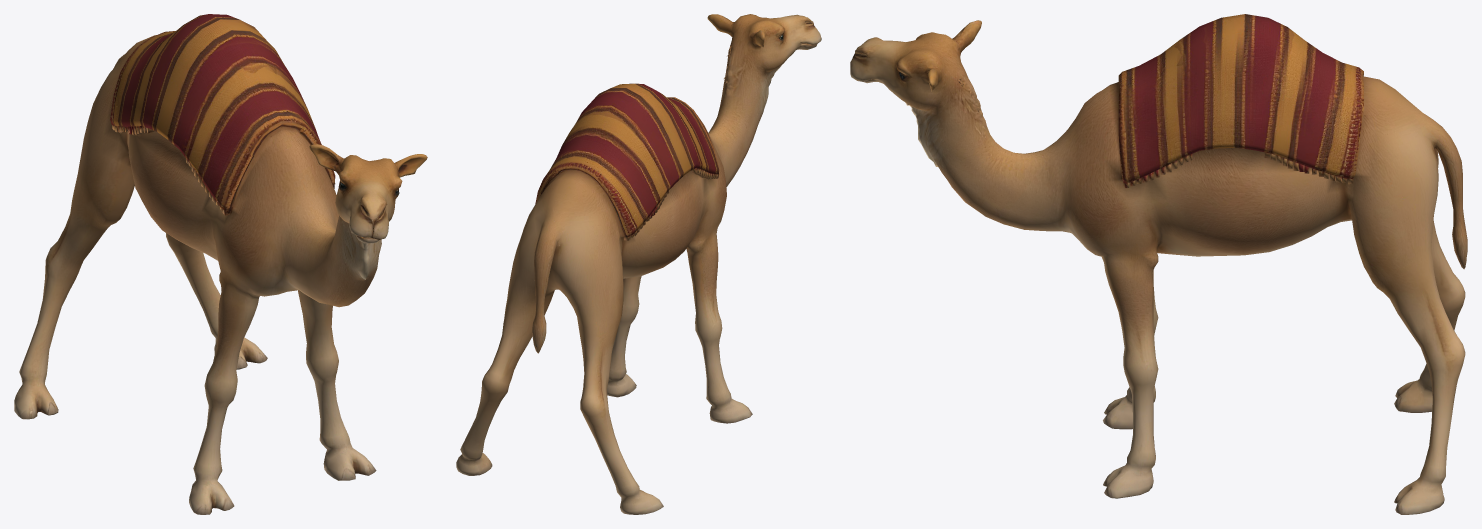
The model's file is camel.glb.
3 views of the same model, side by side, from view 1: azimuth 30°, elevation 25°; view 2: azimuth 150°, elevation 25°; view 3: azimuth 270°, elevation 25° (orthographic). The views are drawn at different scales.
Visible parts, largest first — view 1: tripo_node_2b05b5d0-eaf0-4c1e-b808-f708466bdec1; view 2: tripo_node_2b05b5d0-eaf0-4c1e-b808-f708466bdec1; view 3: tripo_node_2b05b5d0-eaf0-4c1e-b808-f708466bdec1.
Boxes of the visible parts, <box> form: tripo_node_2b05b5d0-eaf0-4c1e-b808-f708466bdec1: <box>14,14,427,514</box>; tripo_node_2b05b5d0-eaf0-4c1e-b808-f708466bdec1: <box>456,14,821,514</box>; tripo_node_2b05b5d0-eaf0-4c1e-b808-f708466bdec1: <box>850,14,1467,514</box>.
Size of the model in its own units: 1.21 by 2 by 2.56.
Materials: 1 (1 with a texture image).
